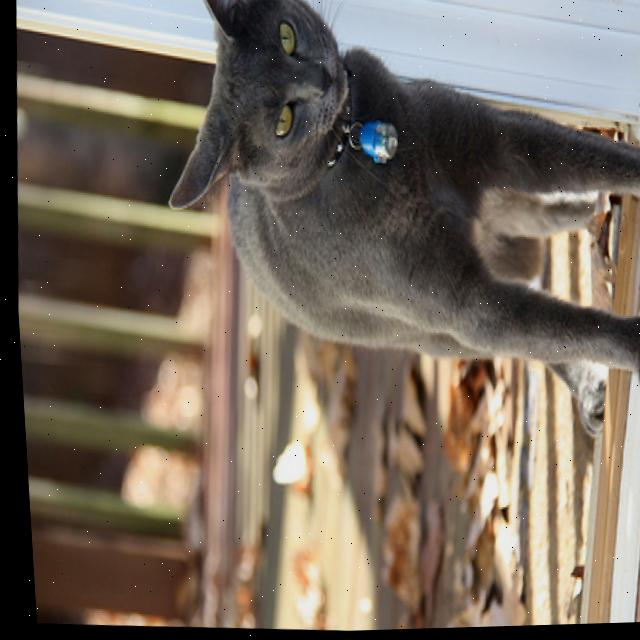Russian Blue: (135, 0, 640, 461)
